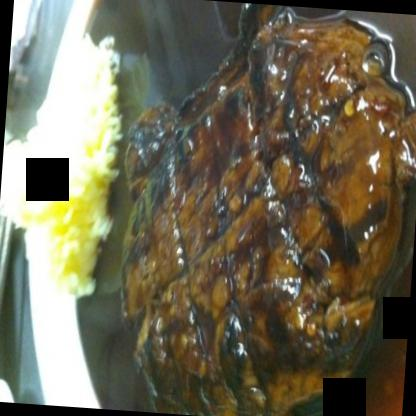beef: (107, 0, 415, 415)
